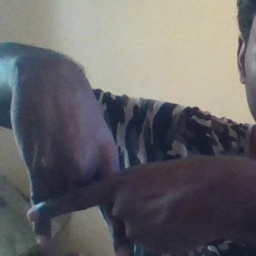H: (15, 135, 147, 249)
